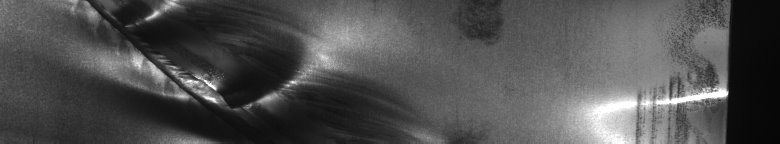ke: (71, 4, 341, 136)
